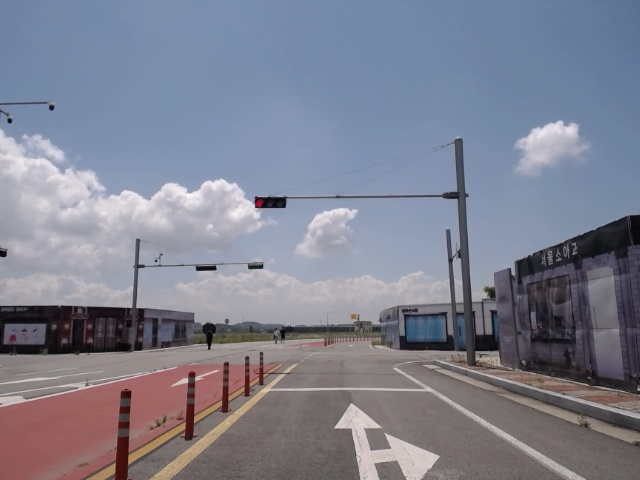red_3: (251, 196, 286, 208)
